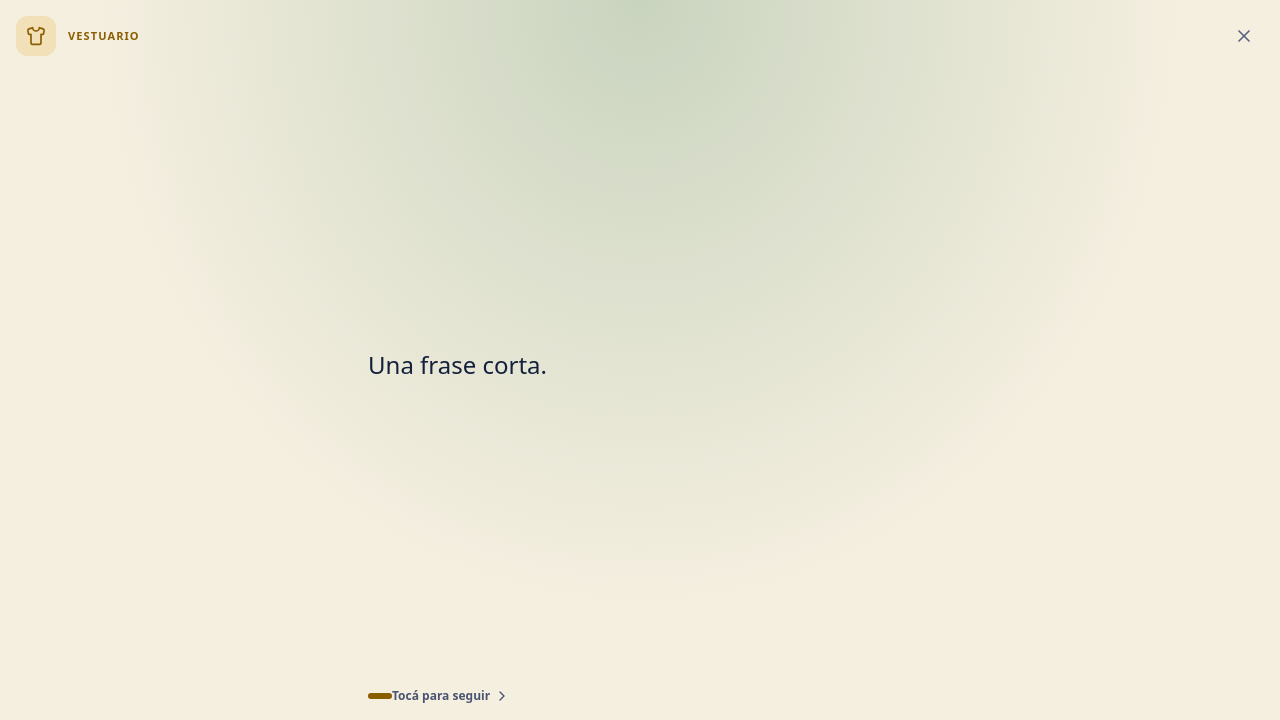
en la pantalla completa › un evento de LOCKER_ROOM propone su minijuego propio (CALM)
Click the button with aria-label "Seguir leyendo" at (640, 384), box 368,64 -> 912,704
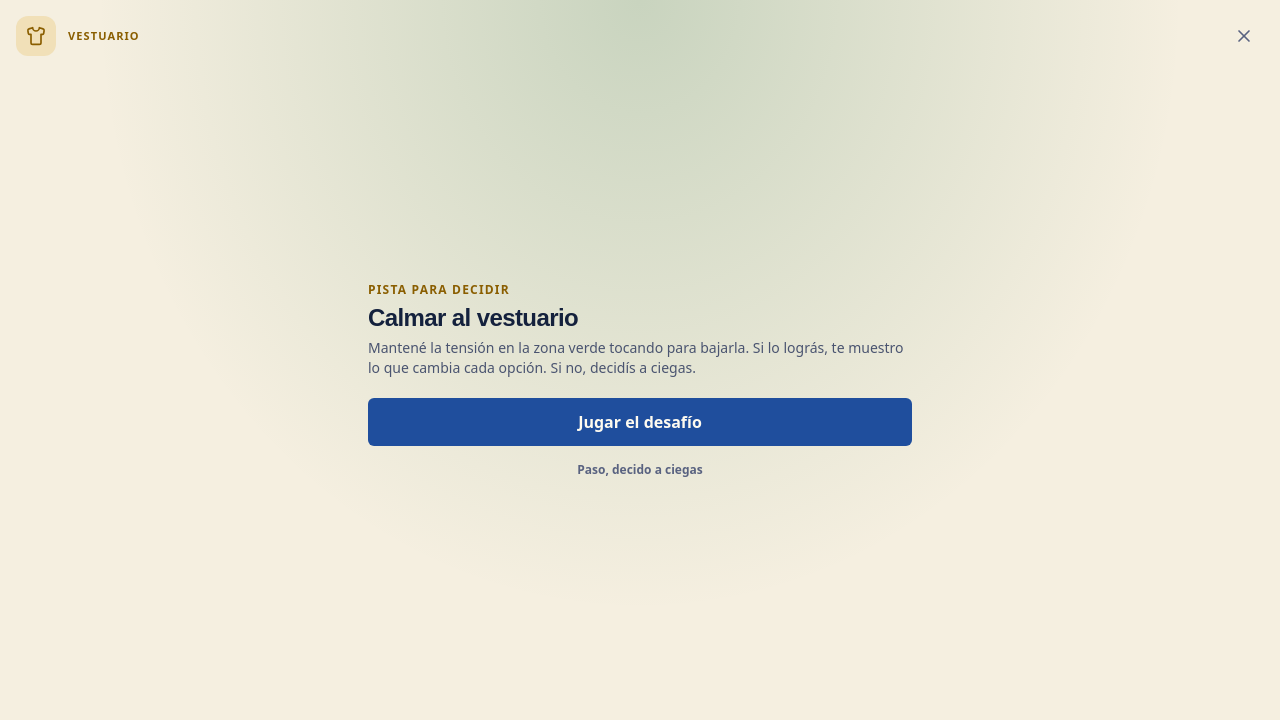
Expected: the heading "Calmar al vestuario" is shown, 368,304 -> 578,331
Expected: the button "Jugar el desafío" is shown, 368,398 -> 912,446
